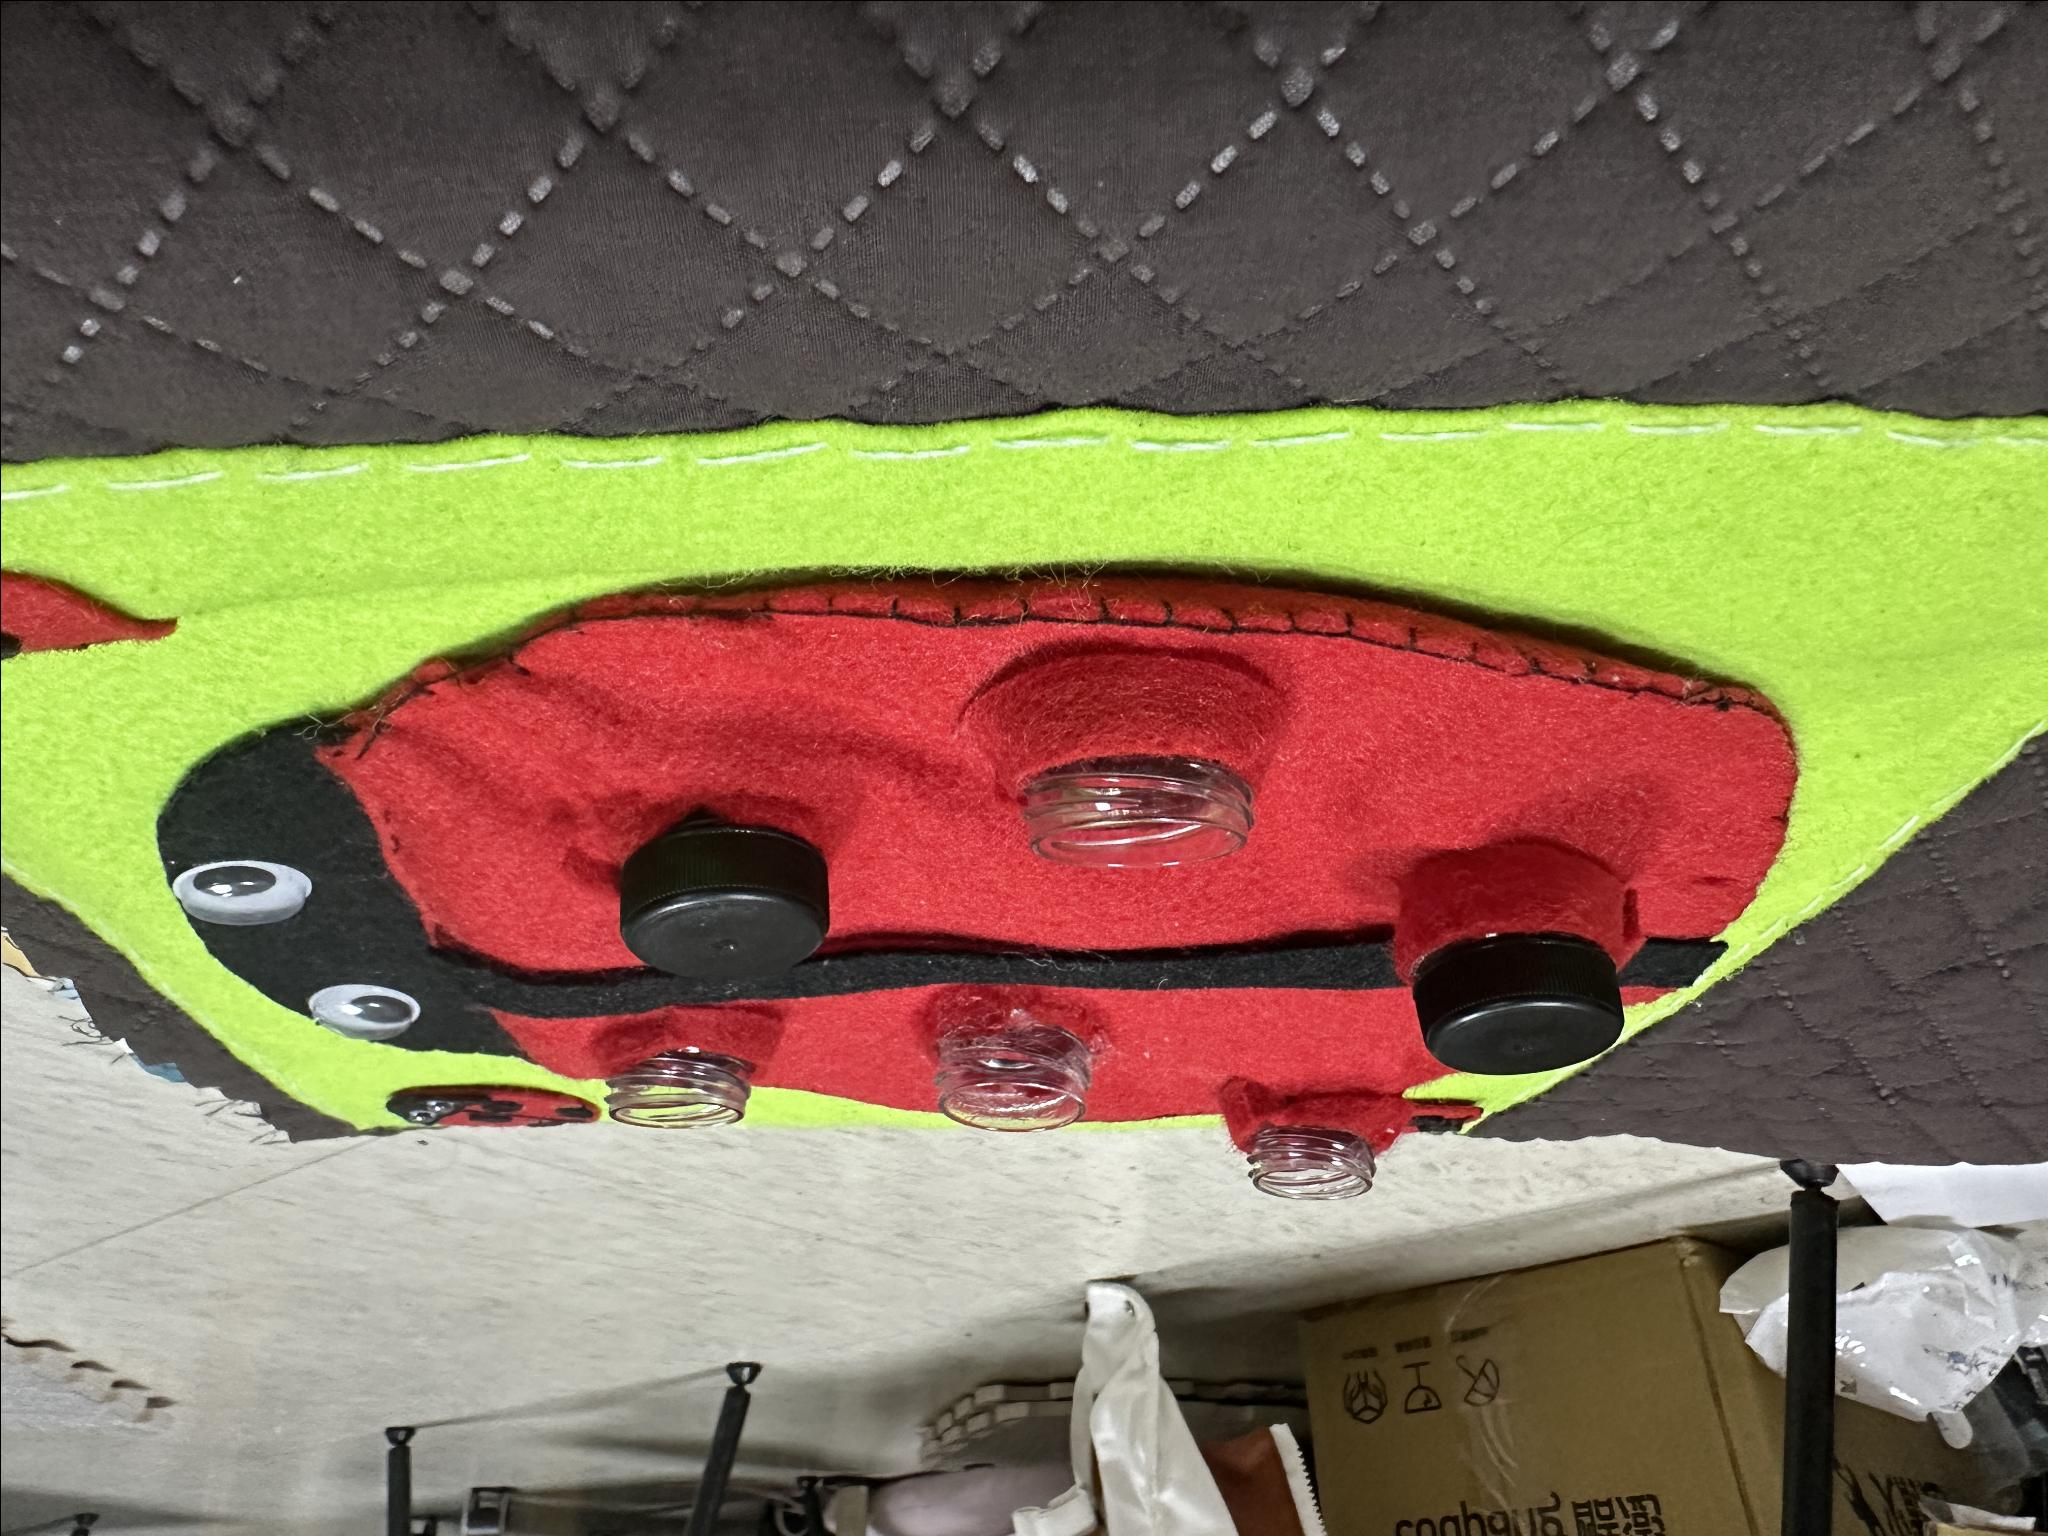cap_ok: (587, 774, 901, 1012), (1395, 836, 1672, 1096)
